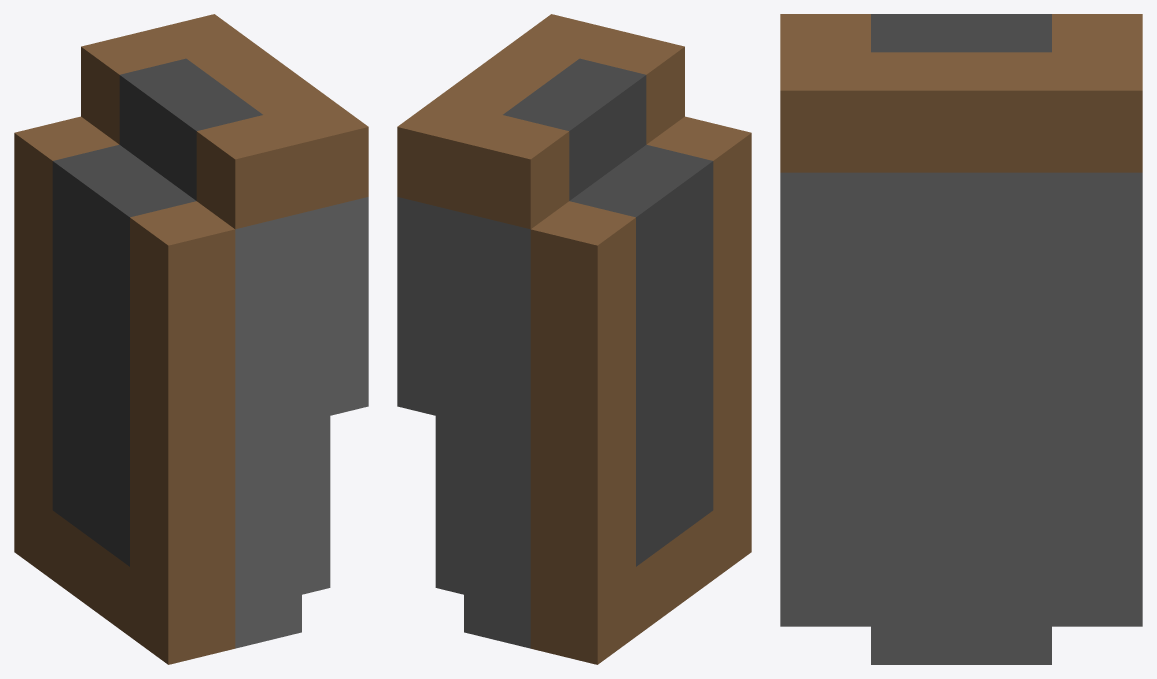
File: characters_export_red-38-arm_hvy_3b_up_sh.obj
The picture shows the model from 3 angles, left to right: view 1: azimuth 30°, elevation 25°; view 2: azimuth 150°, elevation 25°; view 3: azimuth 270°, elevation 25°; orthographic projection. The views are drawn at different scales.
Parts seen in each view (by area): view 1: arm_hvy_3b_up_sh; view 2: arm_hvy_3b_up_sh; view 3: arm_hvy_3b_up_sh.
Part boxes in pixels (bbox=[...]): arm_hvy_3b_up_sh: bbox=[14, 14, 368, 664]; arm_hvy_3b_up_sh: bbox=[397, 14, 751, 664]; arm_hvy_3b_up_sh: bbox=[780, 14, 1142, 664].
Bounding box in the file's own units: 0.3 × 0.7 × 0.4.
1 material, 1 textured.
